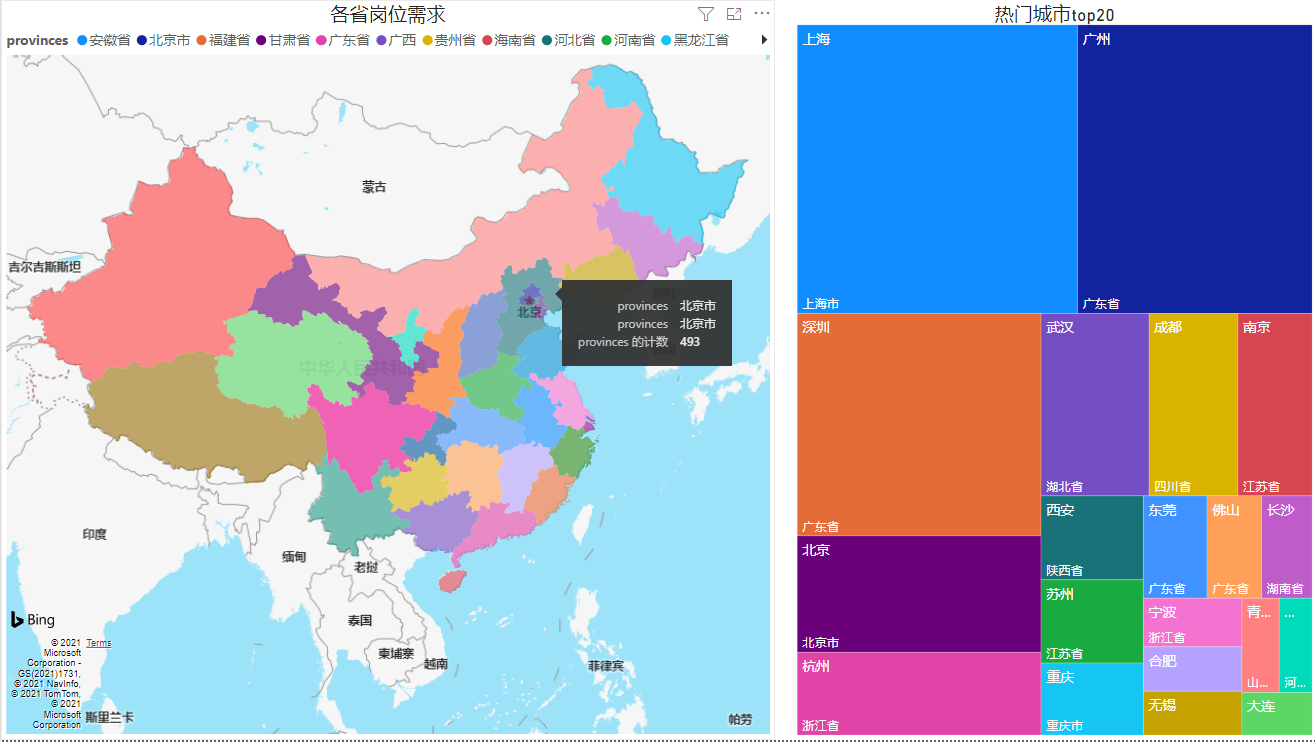

The page's visual inventory and layout, read from the dashboard file:
{"tool":"powerbi","page":{"name":"第 2 页","canvas":[1280,720],"ordinal":1},"visuals":[{"type":"treemap","title":"热门城市top20","fields":{"Group":["Sheet1.city"],"Values":["CountNonNull(Sheet1.city)"],"Details":["Sheet1.provinces"]},"box":[769.4,0,510.6,719.8],"z":0},{"type":"filledMap","title":"各省岗位需求","fields":{"Category":["Sheet1.provinces"],"Series":["Sheet1.provinces"]},"box":[0,0,752.8,719.8],"z":1000}]}

Visuals, with their boxes in screenshot pixels (x1, y1, x2, y2), scaled from the page's 1280x720 canvas onto the 1315x742 screenshot:
"热门城市top20" treemap: 790/0/1314/741
"各省岗位需求" filledMap: 0/0/773/741
